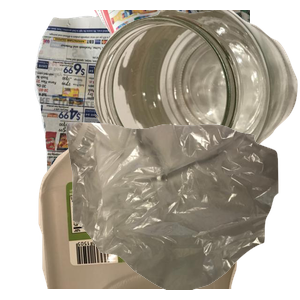glass: (94, 10, 300, 184)
paper: (32, 10, 272, 190)
plastic: (36, 120, 265, 300)
trash: (64, 120, 300, 300)
